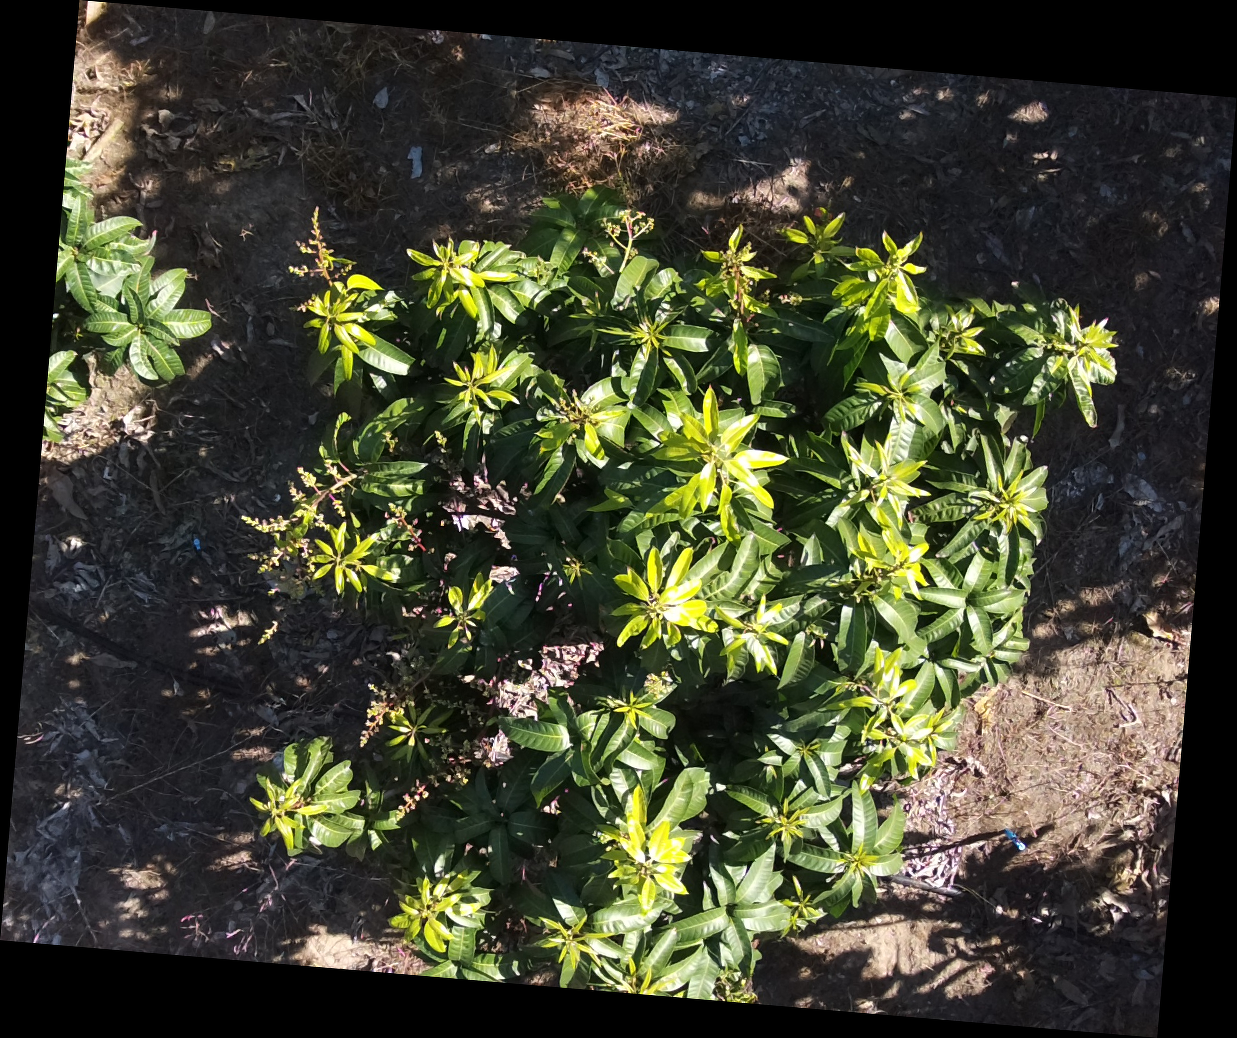flowers: (240, 466, 343, 598), (289, 212, 368, 353), (698, 226, 775, 328), (582, 209, 652, 279), (362, 685, 404, 748), (386, 504, 431, 550), (394, 780, 429, 824), (713, 971, 758, 1002)
